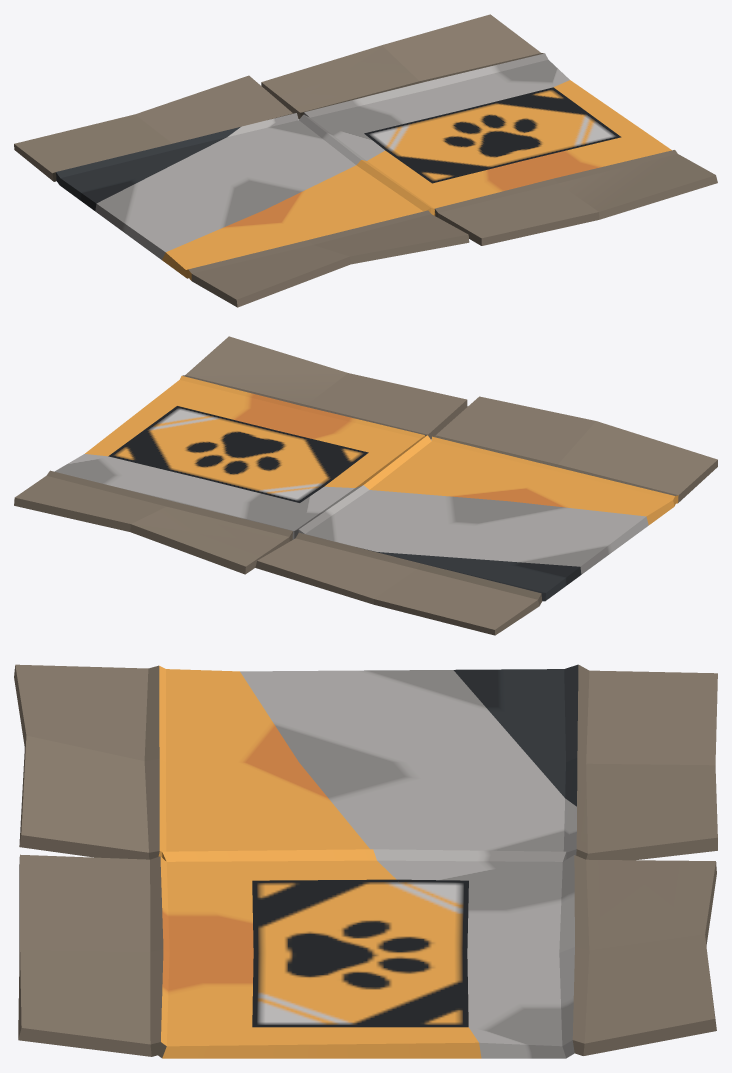
File: SM_Prop_Cardboard_Junk_03.fbx
The picture shows the model from 3 angles, top to bottom: view 1: azimuth 30°, elevation 25°; view 2: azimuth 150°, elevation 25°; view 3: azimuth 270°, elevation 25°; orthographic projection. The views are drawn at different scales.
Visible parts, largest first — view 1: SM_Prop_Cardboard_Junk_03; view 2: SM_Prop_Cardboard_Junk_03; view 3: SM_Prop_Cardboard_Junk_03.
Boxes of the visible parts, box(x1,y1,x2,y2) form: SM_Prop_Cardboard_Junk_03: box(14, 14, 717, 307); SM_Prop_Cardboard_Junk_03: box(14, 336, 717, 635); SM_Prop_Cardboard_Junk_03: box(14, 664, 717, 1058).
Size of the model in its own units: 224 by 11 by 177.
